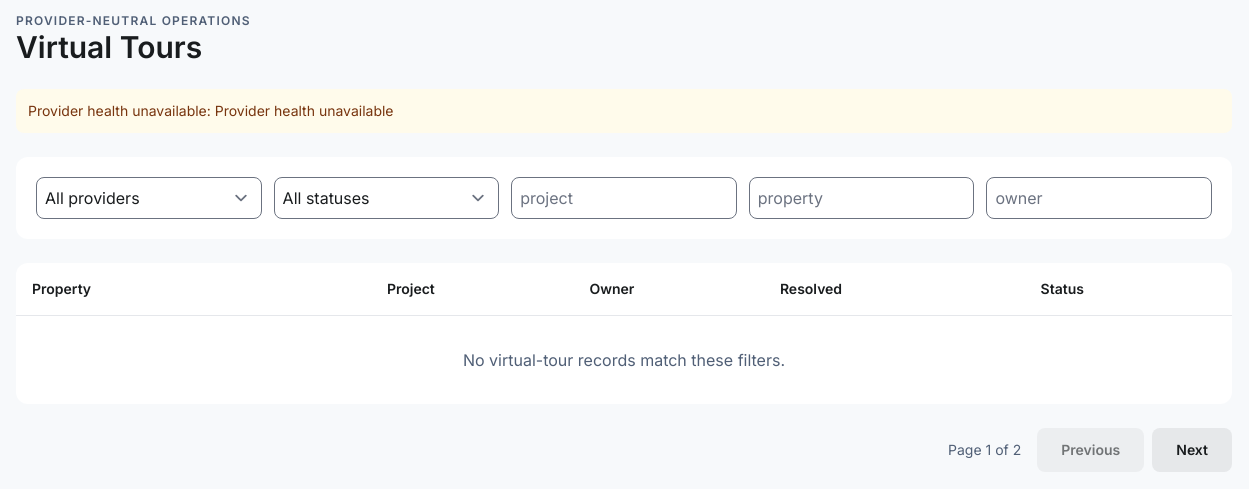
Scenario: staff virtual tour reads › pages list results even when provider health is unavailable
Expected: the text "Page 1 of 2" is shown, top-left (948, 440), bottom-right (1021, 460)
Expected: the text "Provider health unavailable: Provider health unavailable" is shown, top-left (16, 89), bottom-right (1232, 133)
Click the button "Next": click(1192, 450) top-left (1152, 428), bottom-right (1232, 472)
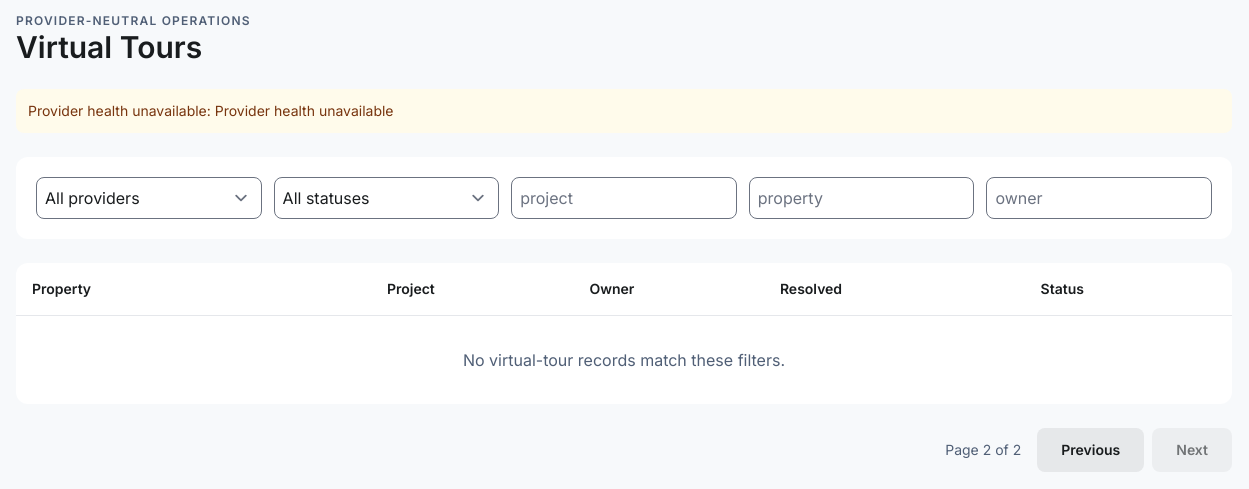
Now the text "Page 2 of 2" is shown, box top-left (945, 440), bottom-right (1021, 460)
